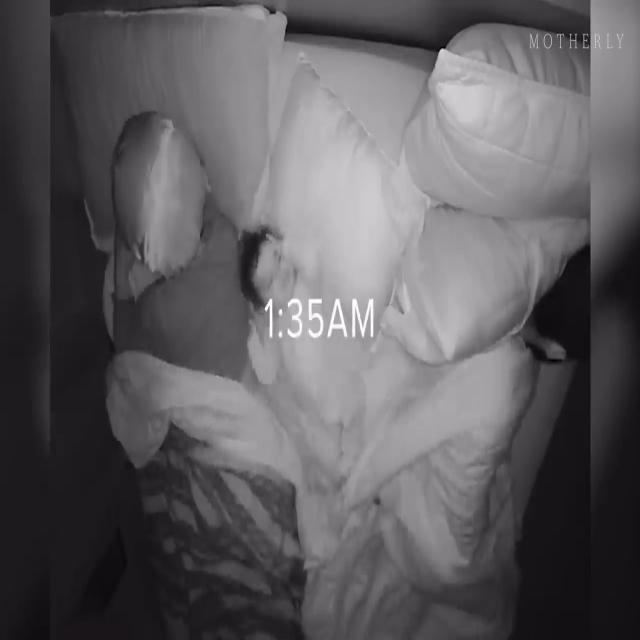baby: (238, 224, 363, 388)
